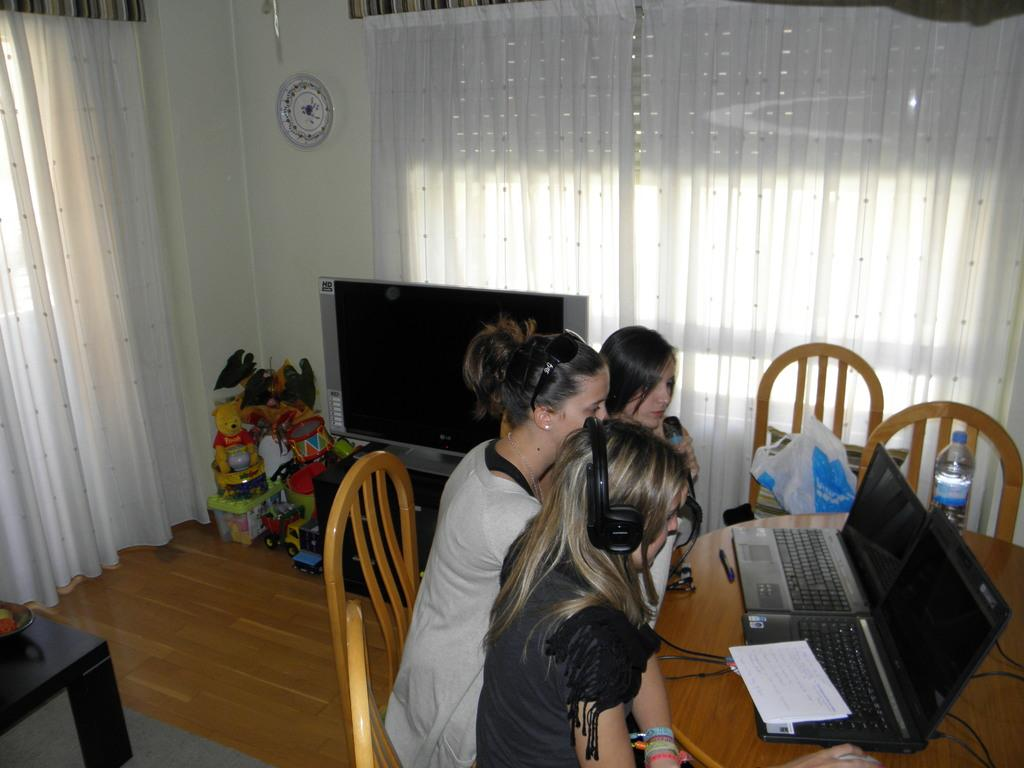Chair: (289, 408, 440, 757), (733, 344, 888, 508), (851, 413, 1023, 557), (344, 600, 413, 767)
Laptop: (742, 511, 1010, 740), (732, 444, 930, 613)
